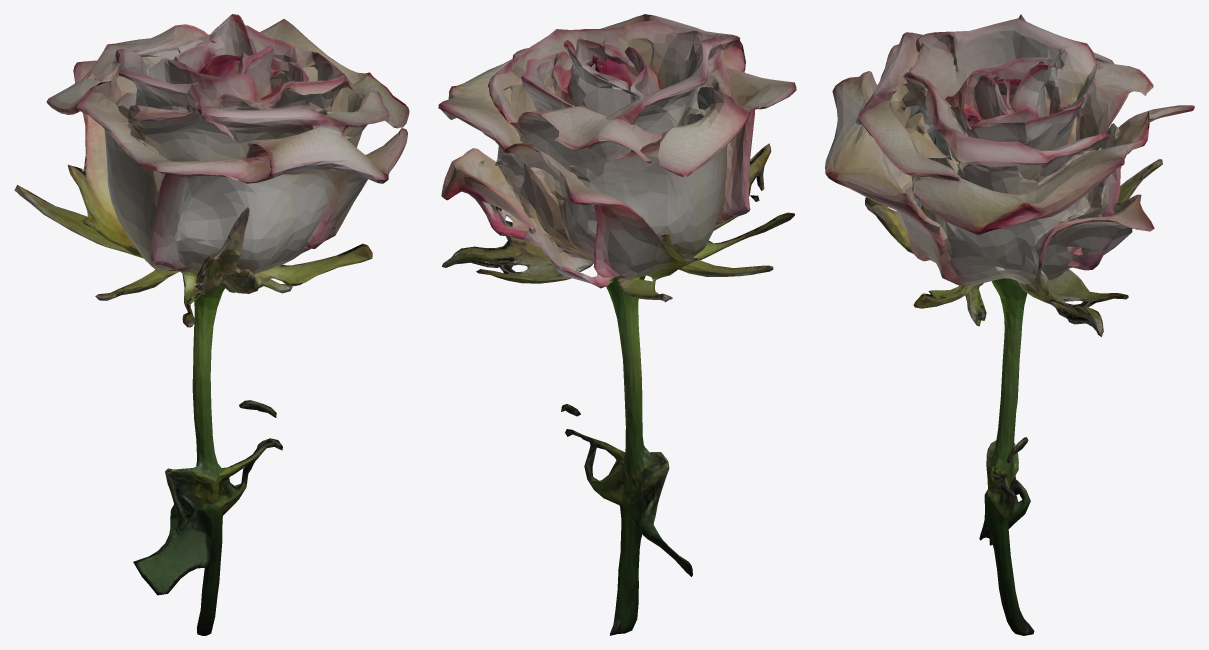
3 renders of one model, left to right at view 1: azimuth 30°, elevation 25°; view 2: azimuth 150°, elevation 25°; view 3: azimuth 270°, elevation 25°, orthographic.
Parts seen in each view (by area): view 1: world; view 2: world; view 3: world.
Boxes of the visible parts, <box> form: world: <box>14,14,409,635</box>; world: <box>438,14,796,635</box>; world: <box>825,14,1194,635</box>.
Size of the model in its own units: 0.5296 by 0.9626 by 0.5455.
Materials: 1 (1 with a texture image).
